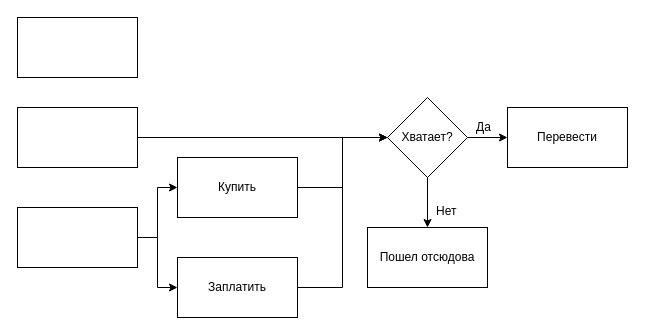
The diagram is 645 pixels wide and 335 high, and some of its shapes have lost their labels. The centre of each missing label's shape, as x and y in pixels:
Баланс: the point at 77,47
Перевод: the point at 77,137
Поле: the point at 77,237
